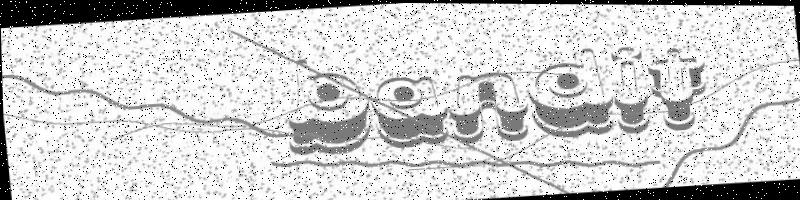a: (369, 70, 451, 151)
b: (280, 53, 375, 158)
d: (523, 44, 616, 140)
i: (607, 44, 653, 134)
n: (444, 67, 531, 147)
t: (644, 44, 710, 132)
